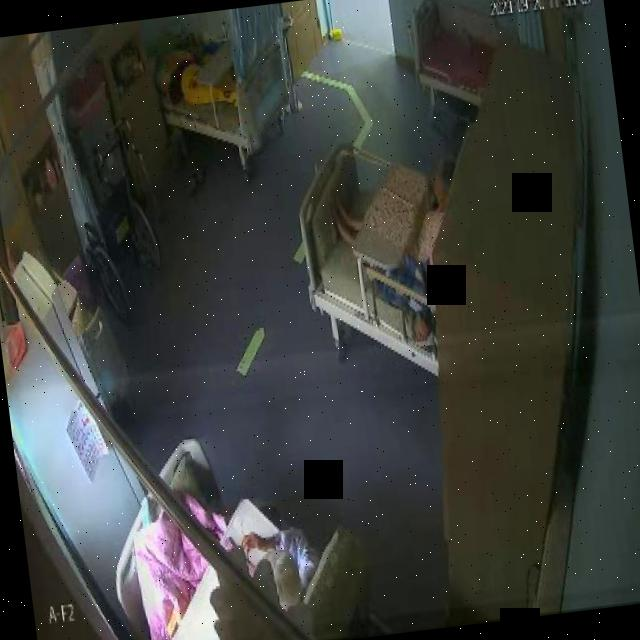bed: (98, 417, 366, 640), (293, 134, 464, 378), (153, 23, 296, 156), (405, 0, 501, 112)
